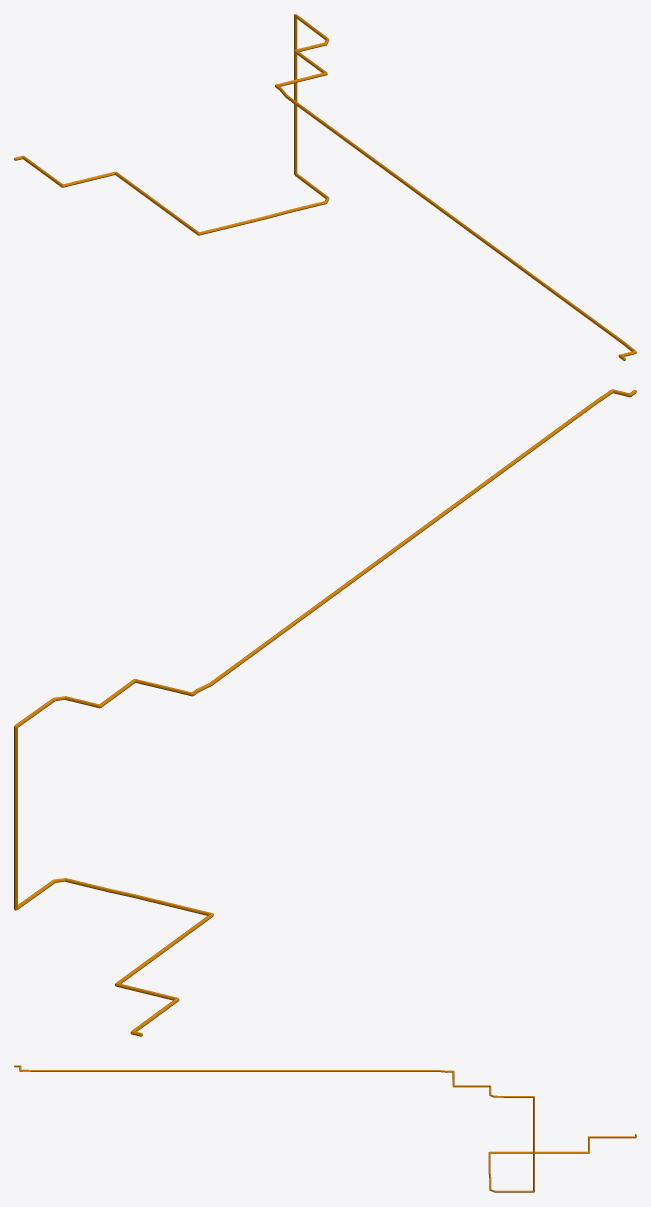
3 views of the same model, one above another, from view 1: azimuth 30°, elevation 25°; view 2: azimuth 150°, elevation 25°; view 3: azimuth 270°, elevation 25° (orthographic). The views are drawn at different scales.
Bounding box in the file's own units: 1304 × 1020 × 5961.
